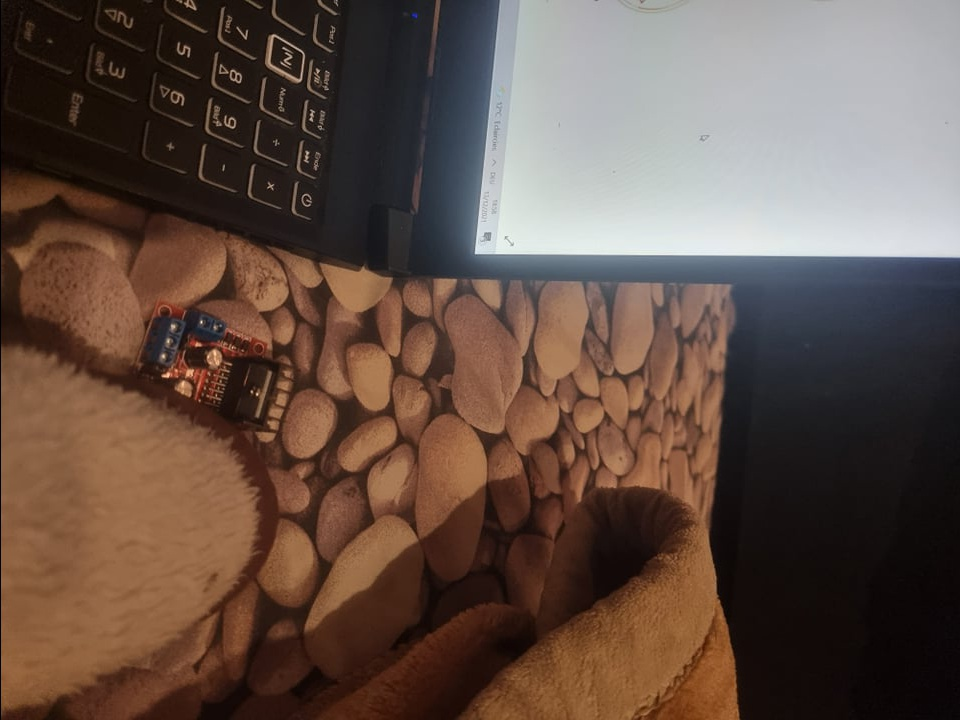MOTOR: (138, 297, 293, 438)
